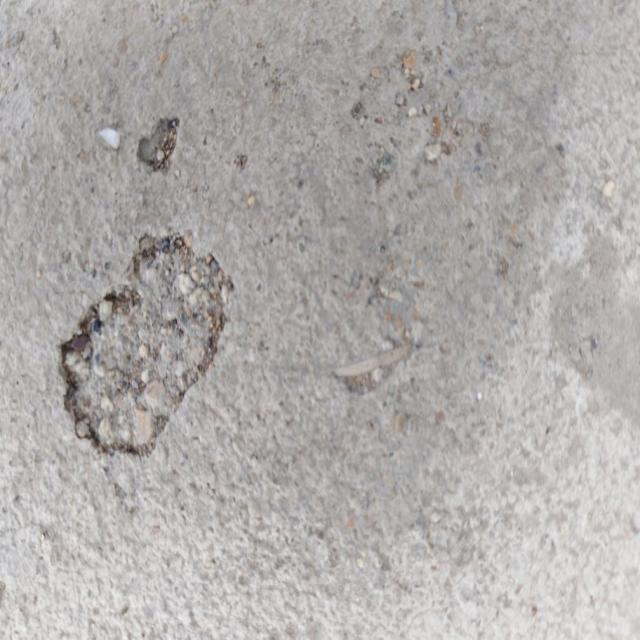concrete spalling: (56, 230, 234, 459), (136, 115, 180, 169)
